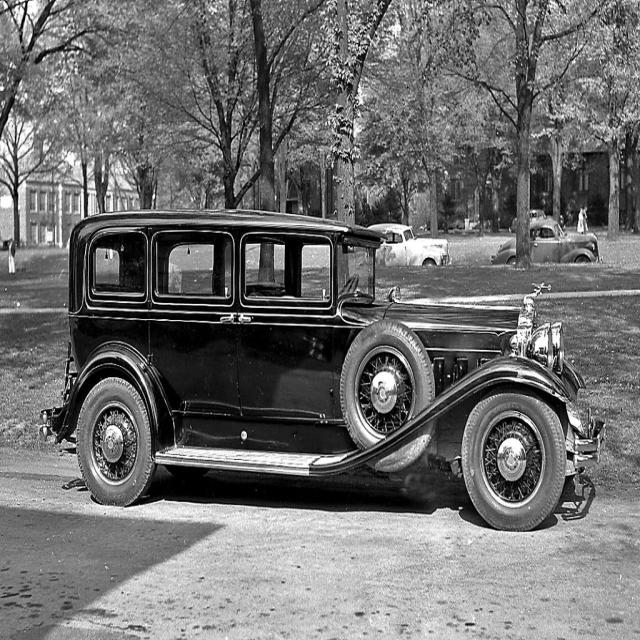car: (36, 197, 612, 532)
